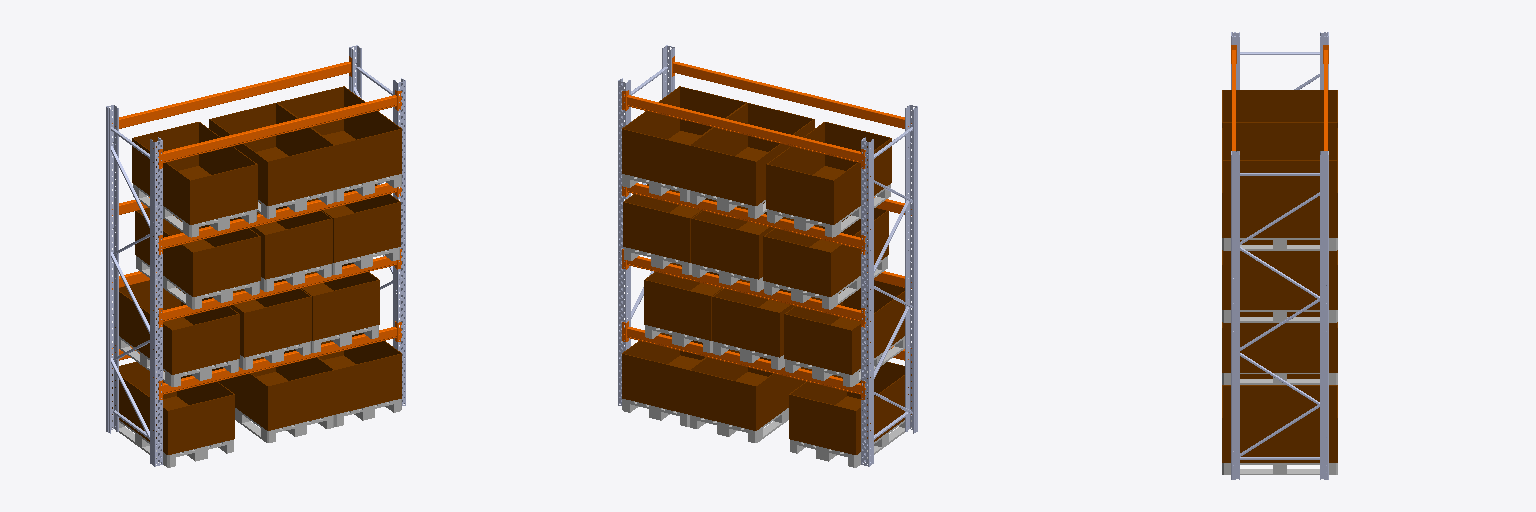
Rendered from bastidorpaleteNameAndGrouped.obj.
3 views of the same model, side by side, from view 1: azimuth 30°, elevation 25°; view 2: azimuth 150°, elevation 25°; view 3: azimuth 270°, elevation 25° (orthographic).
Visible parts, largest first — view 1: Frame, Box, Box.001, Box.005, Box.002, Box.008, Box.003, Box.009, Box.010, Box.006, Box.011, Box.004 (+13 smaller); view 2: Frame, Box, Box.001, Box.005, Box.008, Box.002, Box.003, Box.009, Box.010, Box.006, Box.011, Box.004 (+13 smaller); view 3: Frame, Box.002, Box.010, Box.004, Box.007, Box, Box.001, Pallet.002, Pallet.011, Pallet.005, Pallet.008.
Boxes of the visible parts, box(x1,y1,x2,y2) form: Frame: box(106, 45, 405, 466); Box: box(132, 122, 257, 224); Box.001: box(209, 103, 334, 205); Box.005: box(115, 280, 239, 374); Box.002: box(277, 86, 401, 189); Box.008: box(112, 362, 234, 454); Box.003: box(135, 208, 260, 296); Box.009: box(212, 349, 334, 430); Box.010: box(318, 333, 401, 414); Box.006: box(229, 279, 311, 357); Box.011: box(236, 201, 332, 279); Box.004: box(308, 184, 400, 262); Frame: box(618, 45, 917, 466); Box: box(766, 122, 891, 224); Box.001: box(689, 103, 814, 205); Box.005: box(784, 280, 904, 374); Box.008: box(789, 362, 911, 454); Box.002: box(622, 86, 746, 189); Box.003: box(763, 208, 888, 296); Box.009: box(689, 349, 811, 430); Box.010: box(622, 333, 705, 414); Box.006: box(712, 279, 794, 357); Box.011: box(691, 201, 787, 279); Box.004: box(623, 184, 715, 262); Frame: box(1231, 32, 1328, 479); Box.002: box(1222, 161, 1337, 237); Box.010: box(1222, 385, 1337, 462); Box.004: box(1222, 240, 1337, 309); Box.007: box(1222, 312, 1337, 372); Box: box(1222, 90, 1337, 127); Box.001: box(1222, 128, 1337, 160); Pallet.002: box(1222, 238, 1337, 250); Pallet.011: box(1222, 463, 1337, 474); Pallet.005: box(1222, 310, 1337, 322); Pallet.008: box(1222, 373, 1337, 384).
Size of the model in its own units: 2.98 by 3.68 by 1.2.